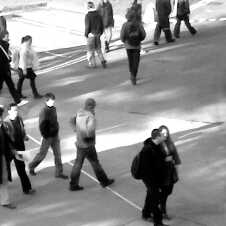person: (70, 98, 115, 192), (29, 93, 67, 179), (5, 102, 34, 195), (141, 127, 167, 226), (156, 123, 182, 221), (16, 35, 44, 100), (83, 1, 108, 68), (122, 10, 144, 85), (1, 107, 16, 211), (1, 28, 19, 102), (151, 1, 177, 45), (174, 1, 199, 36), (98, 1, 113, 54)
